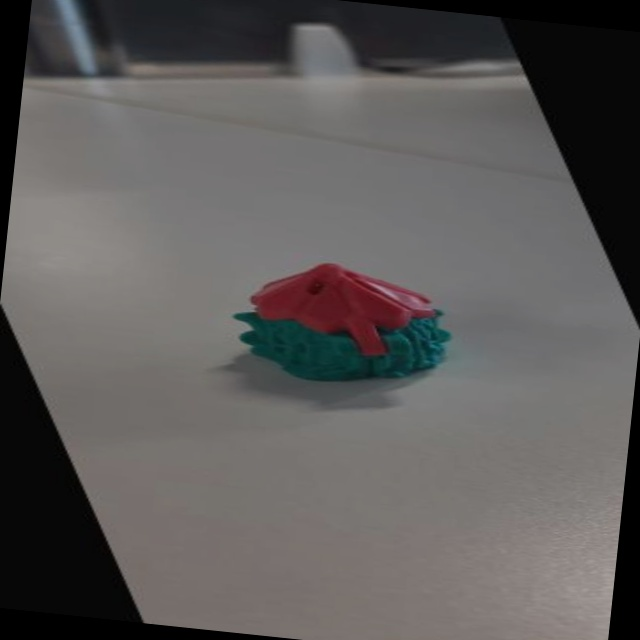House: (176, 230, 494, 410)
